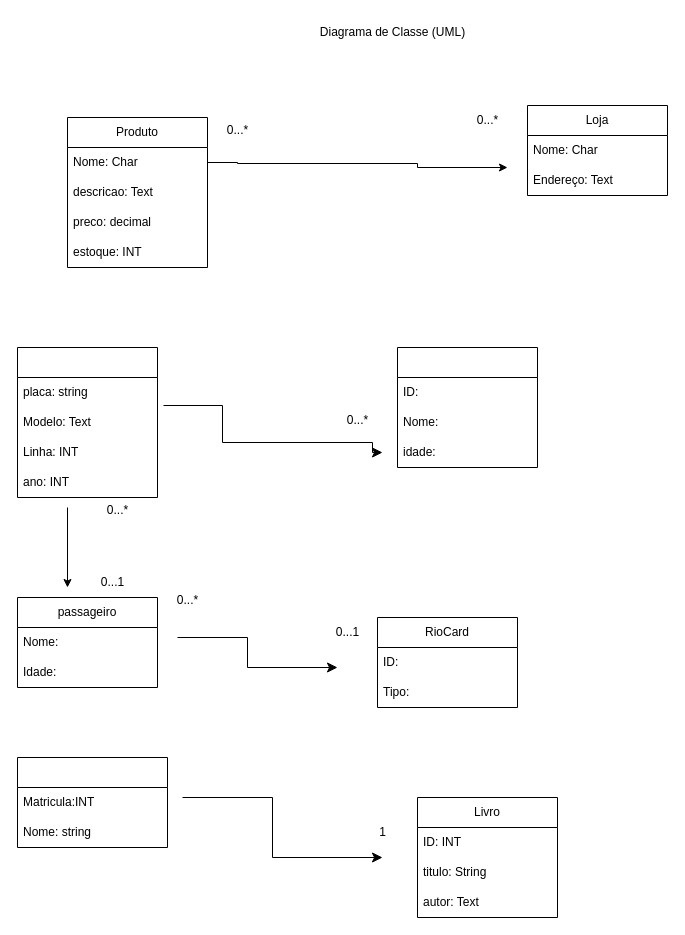
Some shapes in this 685 by 935 pixel diagram are drawn without their labels. The box of each missing label's shape, as (x1, y1, x2, y2) in pixels:
Aluno: (16, 756, 168, 848)
Motorista: (396, 346, 538, 468)
Onibus: (16, 346, 158, 498)
